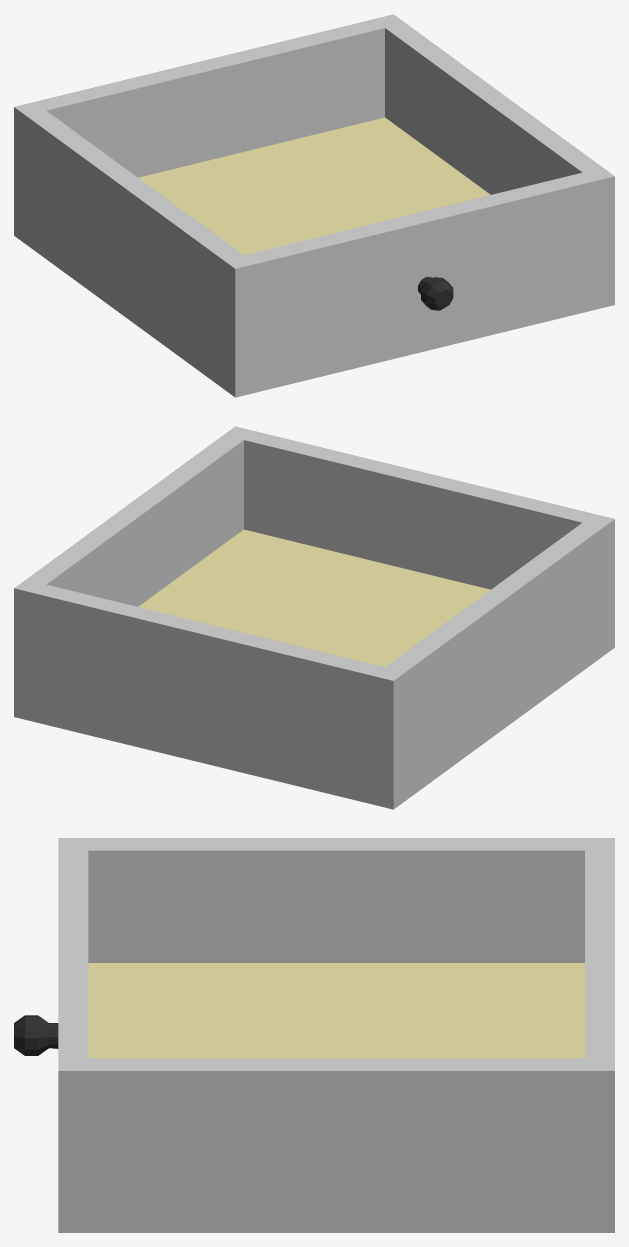
Rendered from Drawer_Small.fbx.
3 renders of one model, top to bottom at view 1: azimuth 30°, elevation 25°; view 2: azimuth 150°, elevation 25°; view 3: azimuth 270°, elevation 25°, orthographic. The views are drawn at different scales.
Visible parts, largest first — view 1: TV_Board_Shelf_2.001; view 2: TV_Board_Shelf_2.001; view 3: TV_Board_Shelf_2.001.
Part boxes in pixels (x1=…): TV_Board_Shelf_2.001: x1=14, y1=14, x2=614, y2=397; TV_Board_Shelf_2.001: x1=14, y1=426, x2=614, y2=809; TV_Board_Shelf_2.001: x1=14, y1=838, x2=614, y2=1232.
Size of the model in its own units: 0.3832 by 0.1242 by 0.4179.
